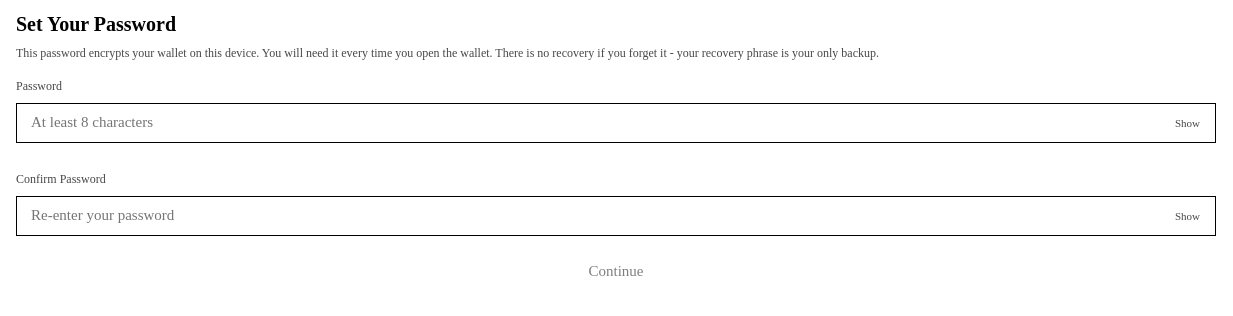
PasswordSetupScreen (B5.1) › disables button while pending
Type "StrongPass123" into the password field labelled "Password" at (616, 123), box [16,103,1216,143]
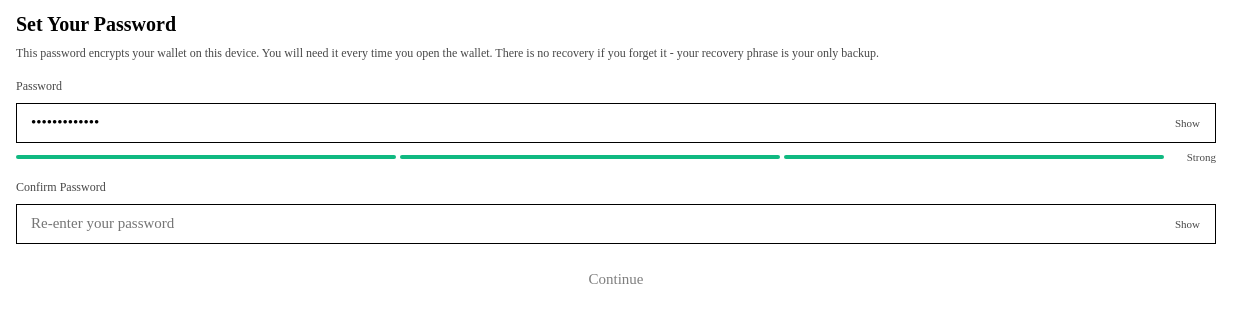
Type "StrongPass123" into the password field labelled "Confirm Password" at (616, 224), box [16,204,1216,244]
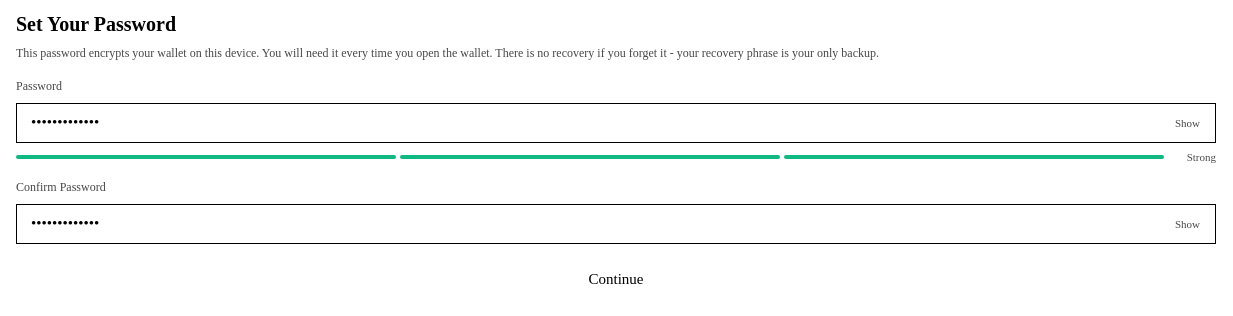
Click the button "Continue" at (616, 280), box [16,260,1216,300]
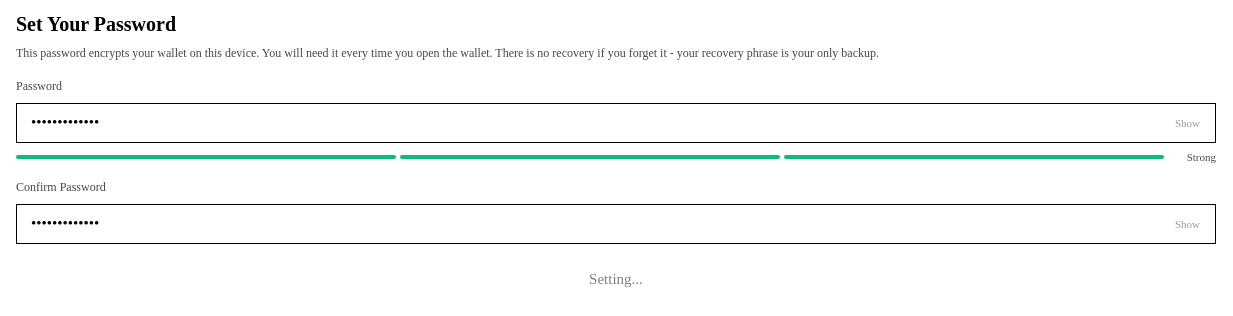
Expected: the button "Setting..." is disabled, [16,260,1216,300]
